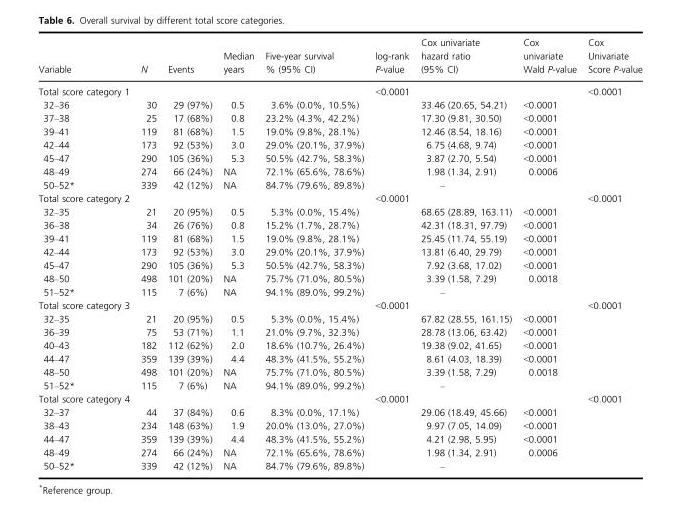table: (37, 37, 641, 470)
table column: (259, 37, 368, 470), (414, 37, 516, 470), (37, 37, 134, 470), (516, 37, 581, 470), (581, 37, 641, 470), (161, 37, 217, 470), (368, 37, 414, 470), (217, 37, 259, 470), (134, 37, 161, 470)
table column header: (37, 37, 641, 79)
table row: (37, 37, 641, 79), (37, 79, 641, 97), (37, 97, 641, 111), (37, 137, 641, 151), (37, 164, 641, 178), (37, 204, 641, 218), (37, 244, 641, 258), (37, 284, 641, 298), (37, 311, 641, 325), (37, 351, 641, 365), (37, 391, 641, 405), (37, 431, 641, 445), (37, 111, 641, 124), (37, 124, 641, 137), (37, 151, 641, 164), (37, 178, 641, 191), (37, 191, 641, 204), (37, 218, 641, 231), (37, 231, 641, 244), (37, 258, 641, 271), (37, 271, 641, 284), (37, 298, 641, 311), (37, 325, 641, 338), (37, 338, 641, 351), (37, 365, 641, 378), (37, 378, 641, 391), (37, 405, 641, 418), (37, 418, 641, 431), (37, 445, 641, 458), (37, 458, 641, 470)
